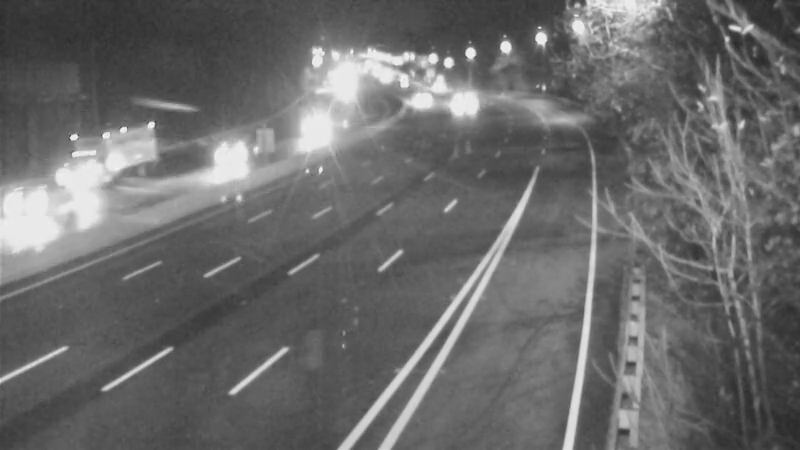vehicle: (43, 130, 123, 210), (192, 113, 272, 193), (1, 173, 75, 253), (416, 61, 466, 111), (400, 76, 450, 126), (435, 82, 485, 132), (286, 103, 336, 153), (325, 62, 375, 112)
